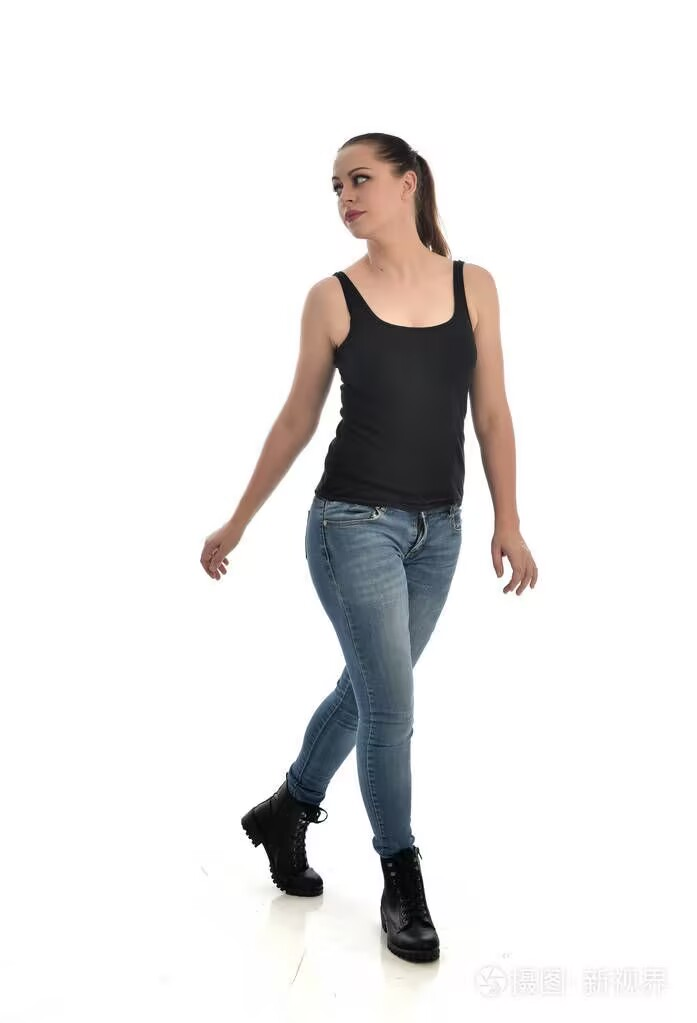up: (190, 107, 551, 965)
